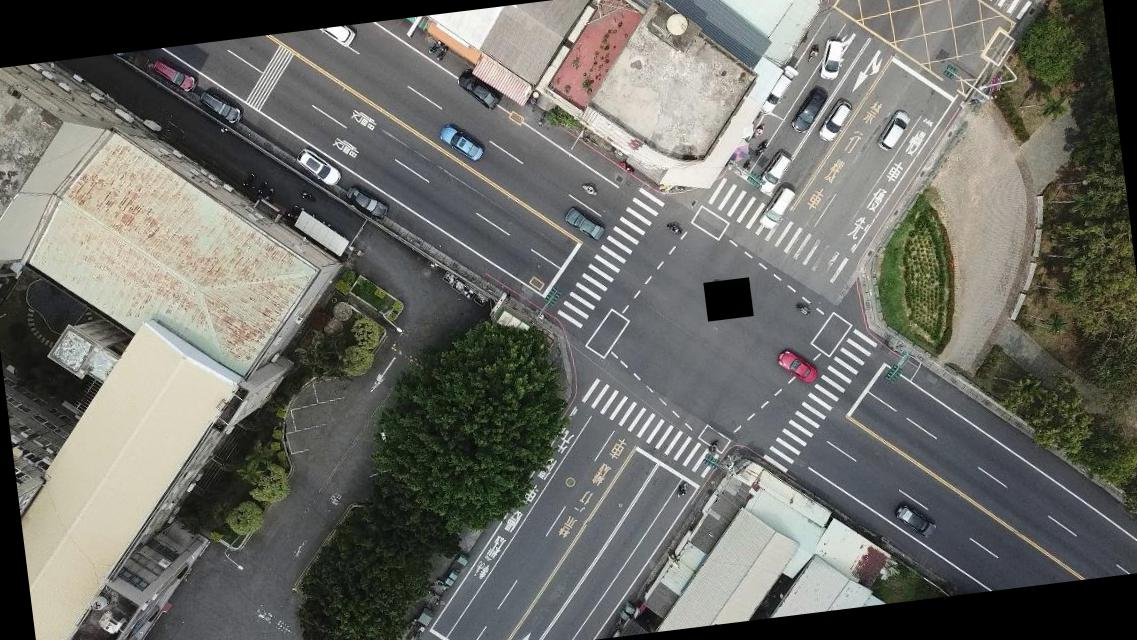vehicle: (285, 138, 342, 191), (752, 64, 802, 118), (453, 63, 503, 116), (436, 118, 485, 166), (148, 52, 200, 97), (787, 86, 832, 136), (754, 184, 800, 232), (342, 180, 391, 224), (198, 84, 244, 128), (562, 203, 609, 246), (893, 498, 939, 540), (753, 149, 794, 196), (775, 344, 819, 387), (813, 97, 855, 142), (873, 109, 915, 153), (813, 34, 848, 82), (319, 24, 358, 49)
